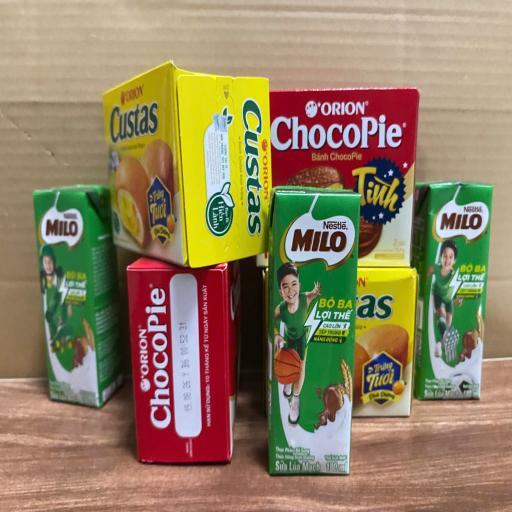chocopie: (254, 86, 419, 268), (126, 256, 239, 464)
custas: (102, 60, 271, 269), (352, 266, 418, 417)
milo: (266, 185, 362, 476), (32, 184, 123, 408), (412, 180, 494, 401)
